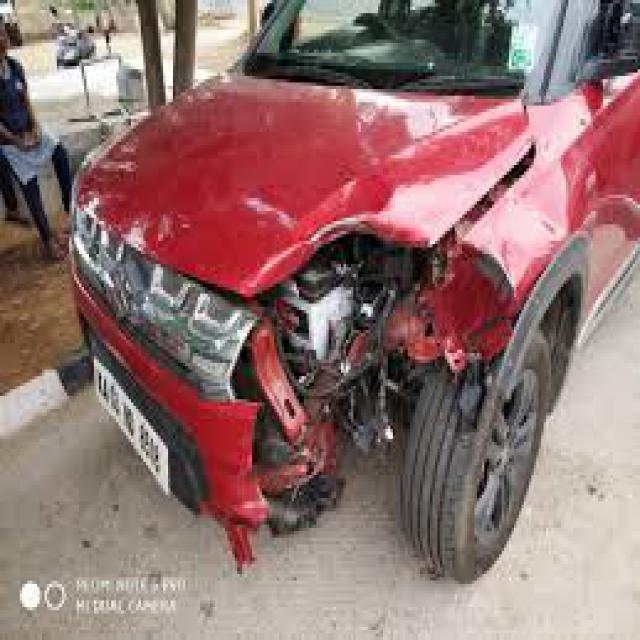bonnet-dent: (158, 89, 477, 297)
fender-dent: (477, 169, 586, 370)
front-bumper-dent: (74, 376, 410, 528)
